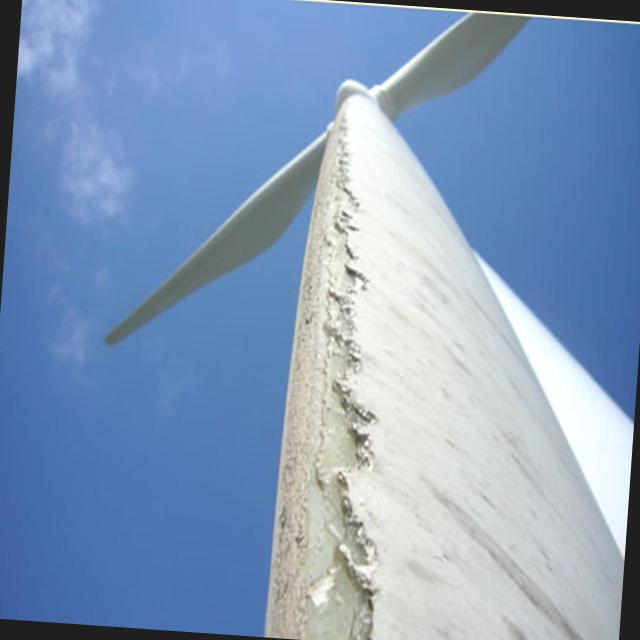corrosion: (292, 120, 368, 343)
surface_peeling: (270, 341, 394, 632)
